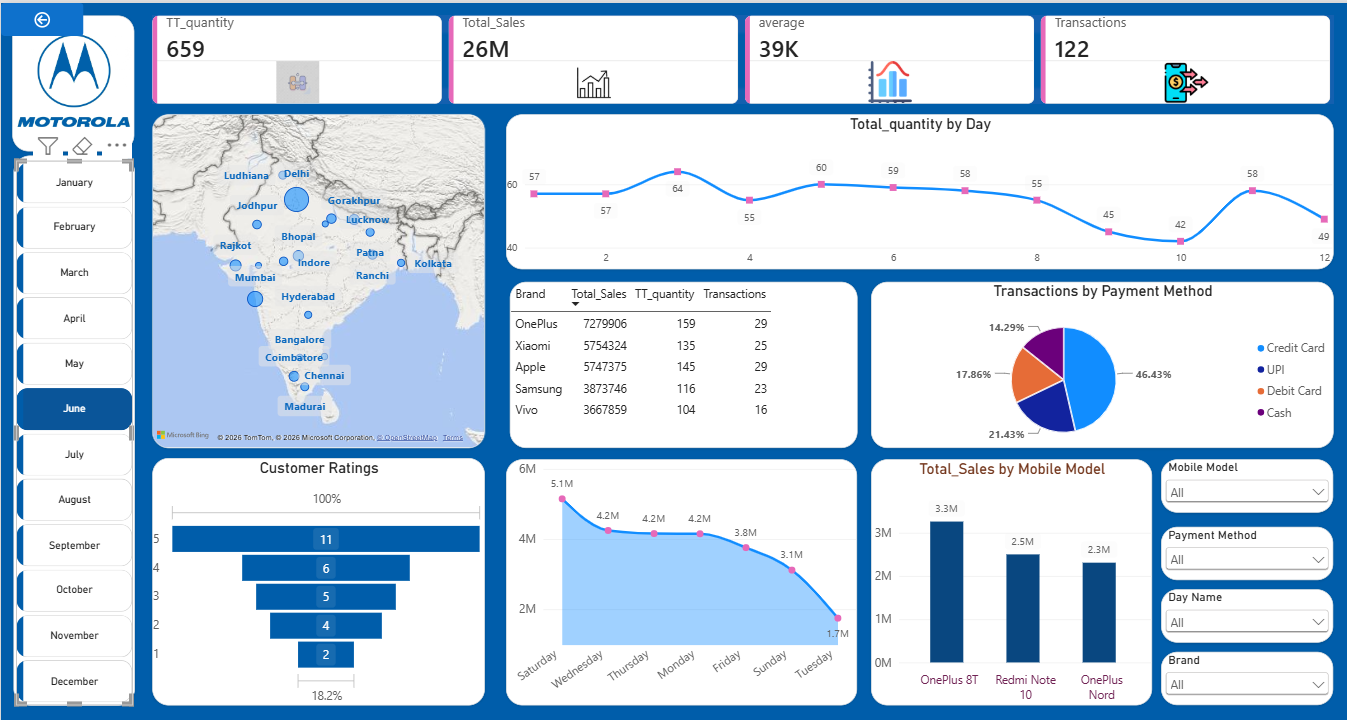

The page's visual inventory and layout, read from the dashboard file:
{"tool":"powerbi","page":{"name":"Page 1","canvas":[1920,1080],"ordinal":0},"visuals":[{"type":"shape","box":[12.9,14.5,148.4,164.5],"z":0},{"type":"image","box":[17.7,27.4,140.3,133.9],"z":1000},{"type":"shape","box":[15.2,184.8,147,666.7],"z":2000},{"type":"advancedSlicerVisual","fields":{"Values":["Sheet1.Date.Variation.Date Hierarchy.Month"]},"box":[18.2,190.9,142.4,660.6],"z":3000},{"type":"cardVisual","fields":{"Data":["Sheet1.TT_quantity","Sheet1.Total_Sales","Sheet1.average","Sheet1.Transactions"]},"box":[183.3,15.2,1431.8,107.6],"z":4000},{"type":"map","fields":{"Category":["Sheet1.City"],"Size":["Sheet1.Total_Sales"]},"box":[183.3,134.8,403,404.5],"z":5000},{"type":"lineChart","fields":{"Category":["Sheet1.Date.Variation.Date Hierarchy.Month","Sheet1.Date.Variation.Date Hierarchy.Day"],"Y":["Sheet1.TT_quantity"]},"box":[612.1,134.8,1003,187.9],"z":6000},{"type":"clusteredColumnChart","fields":{"Category":["Sheet1.Mobile Model"],"Y":["Sheet1.Total_Sales"]},"box":[1054.5,553,340.9,298.5],"z":7000},{"type":"pieChart","fields":{"Category":["Sheet1.Payment Method"],"Y":["Sheet1.Transactions"]},"box":[1054.5,337.9,560.6,201.5],"z":8000},{"type":"funnel","title":"Customer Ratings","fields":{"Category":["Sheet1.Customer Ratings"],"Y":["CountNonNull(Sheet1.Customer Ratings)"]},"box":[183.3,551.5,403,300],"z":9000},{"type":"areaChart","fields":{"Category":["Sheet1.Day Name"],"Y":["Sheet1.Total_Sales"]},"box":[612.1,553,425.8,298.5],"z":10000},{"type":"tableEx","fields":{"Values":["Sheet1.Brand","Sheet1.Total_Sales","Sheet1.TT_quantity","Sheet1.Transactions"]},"box":[616.7,337.9,421.2,201.5],"z":11000},{"type":"actionButton","box":[0,0,100,40],"z":12000},{"type":"slicer","fields":{"Values":["Sheet1.Mobile Model"]},"box":[1406.1,553,209.1,65.2],"z":12001},{"type":"slicer","fields":{"Values":["Sheet1.Payment Method"]},"box":[1406.1,634.8,209.1,65.2],"z":12002},{"type":"slicer","fields":{"Values":["Sheet1.Day Name"]},"box":[1406.1,710.6,209.1,65.2],"z":12003},{"type":"slicer","fields":{"Values":["Sheet1.Brand"]},"box":[1406.1,786.4,209.1,65.2],"z":12004}]}

Visuals, with their boxes on the page's 1920x1080 design canvas (x1, y1, x2, y2). These are canvas units, not pixel positions in the 1347x720 screenshot, which may show the page scaled, cropped or inside an application window:
shape: bbox=[13, 14, 161, 179]
image: bbox=[18, 27, 158, 161]
shape: bbox=[15, 185, 162, 852]
advancedSlicerVisual - Sheet1.Date.Variation.Date Hierarchy.Month: bbox=[18, 191, 161, 852]
cardVisual - Sheet1.TT_quantity x Sheet1.Total_Sales: bbox=[183, 15, 1615, 123]
map - Sheet1.City x Sheet1.Total_Sales: bbox=[183, 135, 586, 539]
lineChart - Sheet1.Date.Variation.Date Hierarchy.Month x Sheet1.Date.Variation.Date Hierarchy.Day: bbox=[612, 135, 1615, 323]
clusteredColumnChart - Sheet1.Mobile Model x Sheet1.Total_Sales: bbox=[1054, 553, 1395, 852]
pieChart - Sheet1.Payment Method x Sheet1.Transactions: bbox=[1054, 338, 1615, 539]
"Customer Ratings" funnel: bbox=[183, 552, 586, 852]
areaChart - Sheet1.Day Name x Sheet1.Total_Sales: bbox=[612, 553, 1038, 852]
tableEx - Sheet1.Brand x Sheet1.Total_Sales: bbox=[617, 338, 1038, 539]
actionButton: bbox=[0, 0, 100, 40]
slicer - Sheet1.Mobile Model: bbox=[1406, 553, 1615, 618]
slicer - Sheet1.Payment Method: bbox=[1406, 635, 1615, 700]
slicer - Sheet1.Day Name: bbox=[1406, 711, 1615, 776]
slicer - Sheet1.Brand: bbox=[1406, 786, 1615, 852]
